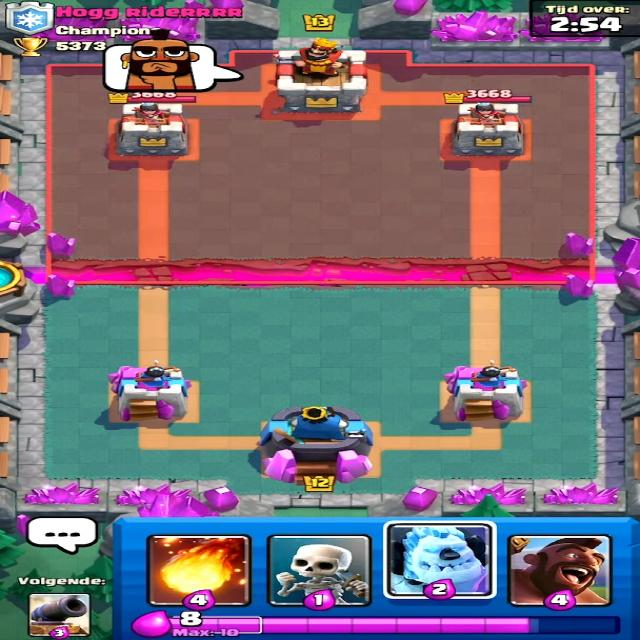Fireball_Card: (157, 535, 244, 603)
Hog_Rider_Card: (506, 534, 611, 610)
Ice_Golem_Card: (393, 524, 495, 602)
Skeleton_Card: (273, 535, 372, 606)
